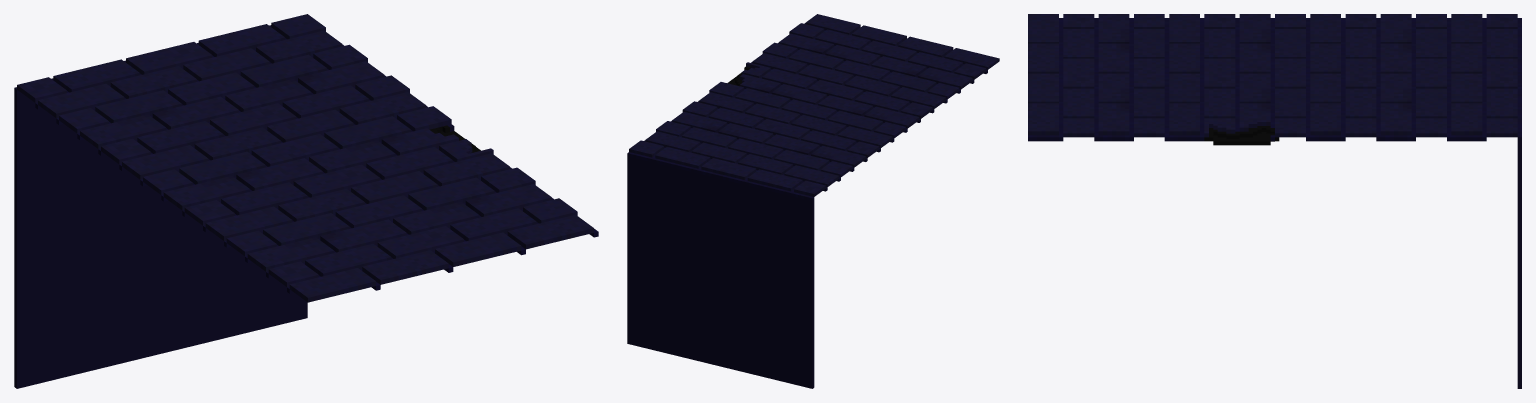
Rendered from flooring_prophet-0.obj.
The picture shows the model from 3 angles, left to right: view 1: azimuth 30°, elevation 25°; view 2: azimuth 150°, elevation 25°; view 3: azimuth 270°, elevation 25°; orthographic projection. The views are drawn at different scales.
Bounding box in the file's own units: 6.4 × 6.4 × 11.2.
